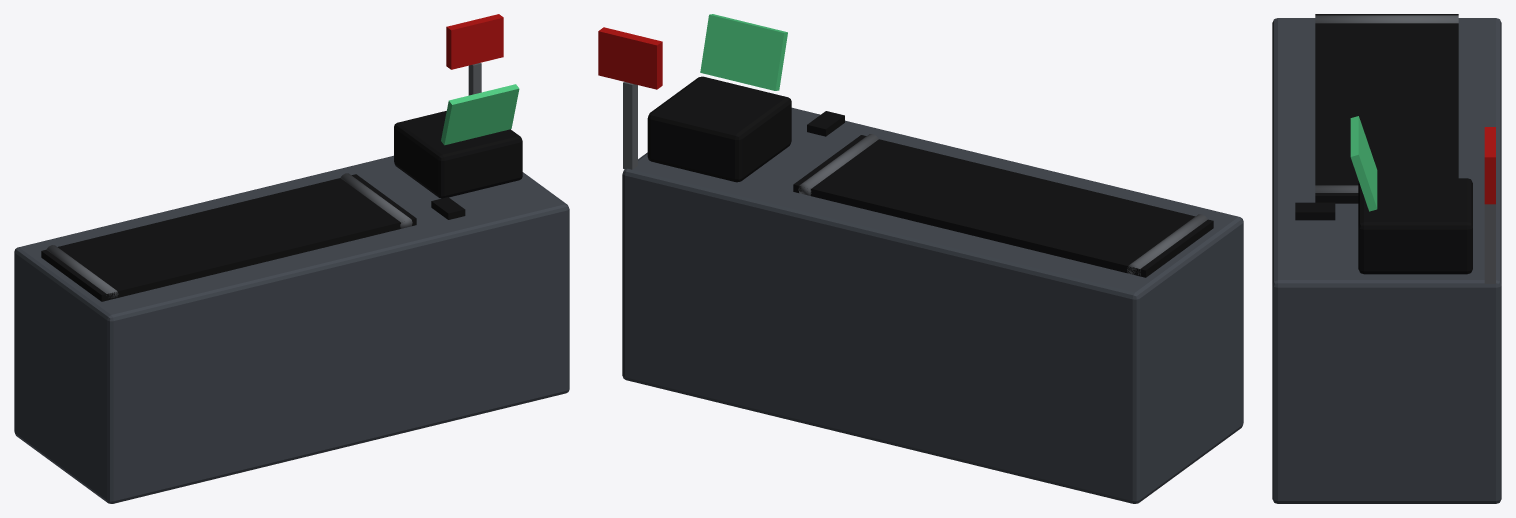
The model's file is checkout.glb.
The picture shows the model from 3 angles, left to right: view 1: azimuth 30°, elevation 25°; view 2: azimuth 150°, elevation 25°; view 3: azimuth 270°, elevation 25°; orthographic projection. The views are drawn at different scales.
Parts seen in each view (by area): view 1: checkout; view 2: checkout; view 3: checkout.
Part boxes in pixels (left/top/right/bottom): checkout: left=14, top=14, right=569, bottom=503; checkout: left=598, top=14, right=1243, bottom=503; checkout: left=1272, top=14, right=1501, bottom=503.
Bounding box in the file's own units: 2.31 × 1.39 × 0.8.
1 material, 1 textured.
